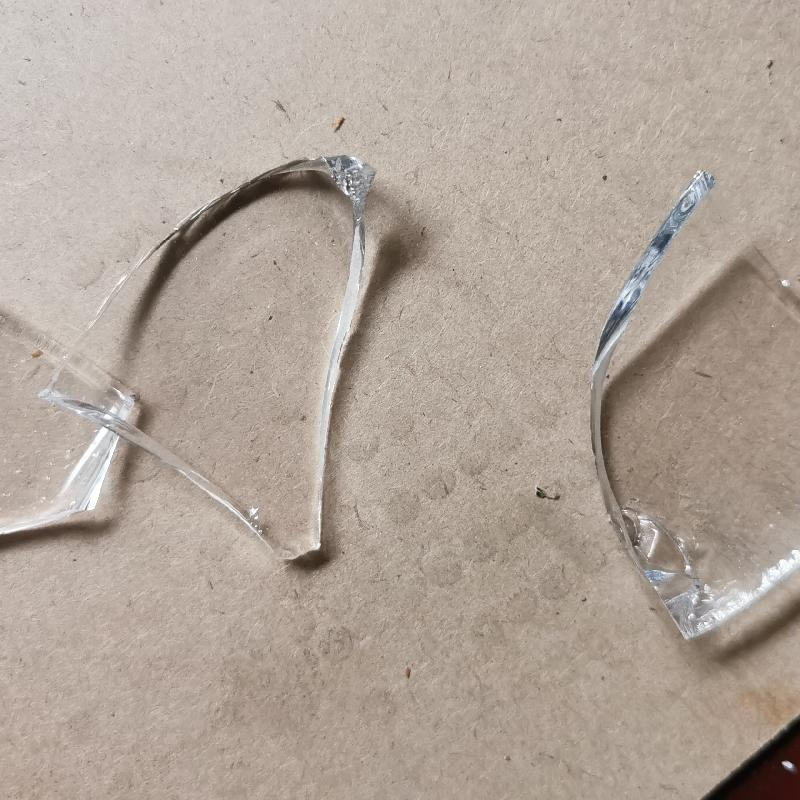glass: (45, 155, 378, 575), (588, 171, 799, 646)
